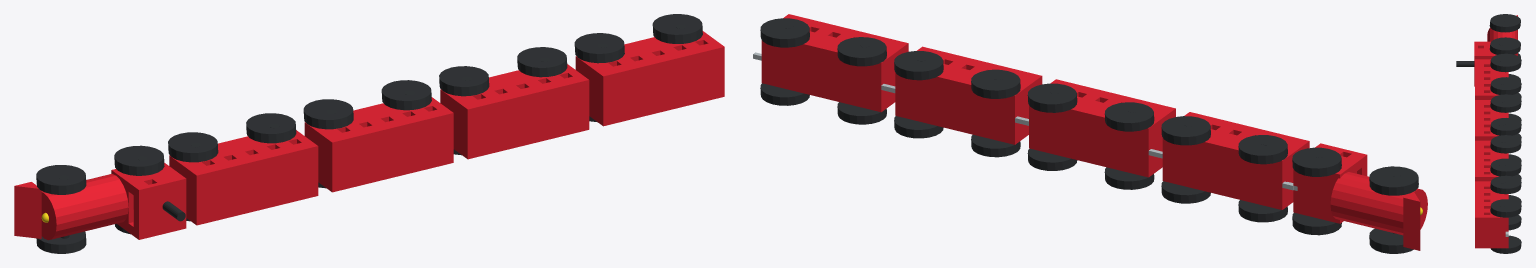
The model's file is tinker.obj.
3 views of the same model, side by side, from view 1: azimuth 30°, elevation 25°; view 2: azimuth 150°, elevation 25°; view 3: azimuth 270°, elevation 25° (orthographic). The views are drawn at different scales.
Parts seen in each view (by area): view 1: group_0_15277357, group_0_2829873; view 2: group_0_15277357, group_0_2829873, group_0_12568524; view 3: group_0_2829873, group_0_15277357.
Part boxes in pixels (x1=…): group_0_15277357: x1=14, y1=31, x2=724, y2=240; group_0_2829873: x1=36, y1=14, x2=702, y2=253; group_0_15277357: x1=761, y1=14, x2=1427, y2=250; group_0_2829873: x1=760, y1=18, x2=1418, y2=253; group_0_12568524: x1=753, y1=52, x2=1297, y2=190; group_0_2829873: x1=1456, y1=14, x2=1521, y2=253; group_0_15277357: x1=1474, y1=15, x2=1517, y2=248.
Bounding box in the file's own units: 158 × 15 × 21.17.
